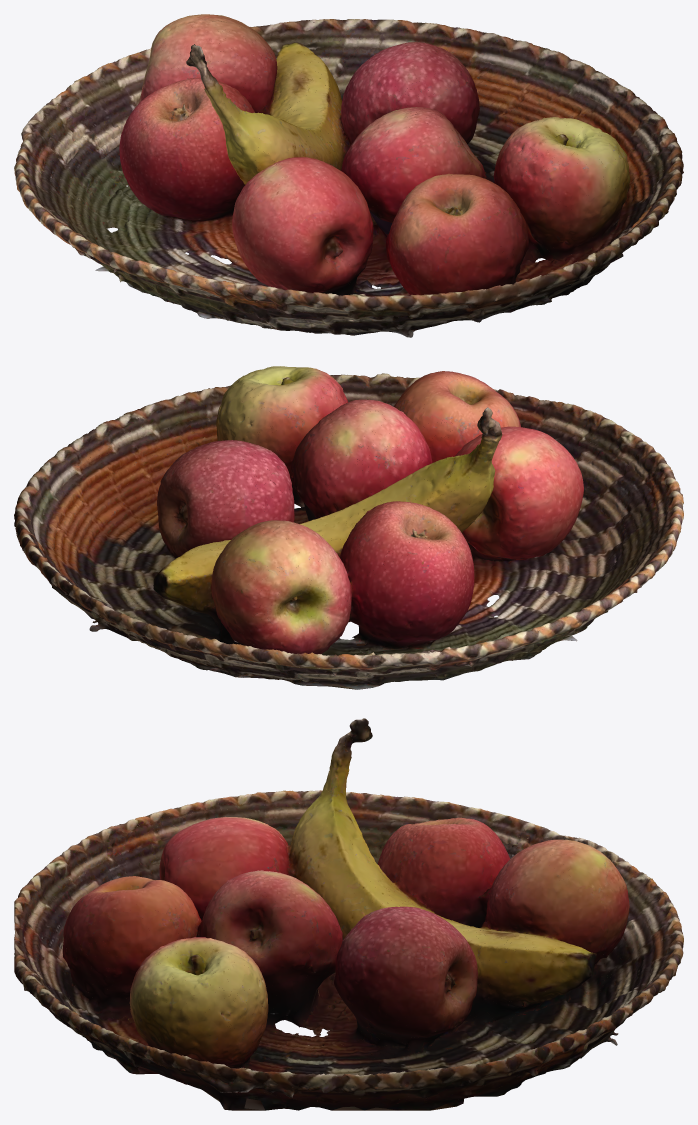
File: 静物_水果_Bowl of Fruit_opt.glb
3 views of the same model, one above another, from view 1: azimuth 30°, elevation 25°; view 2: azimuth 150°, elevation 25°; view 3: azimuth 270°, elevation 25° (orthographic).
Visible parts, largest first — view 1: model_tex_u1_v1_0; view 2: model_tex_u1_v1_0; view 3: model_tex_u1_v1_0.
Boxes of the visible parts, left/top/right/bottom form: model_tex_u1_v1_0: left=14, top=14, right=683, bottom=337; model_tex_u1_v1_0: left=14, top=366, right=683, bottom=689; model_tex_u1_v1_0: left=14, top=718, right=683, bottom=1110.
Bounding box in the file's own units: 0.5922 × 0.2 × 0.5877.
Materials: 1 (1 with a texture image).
